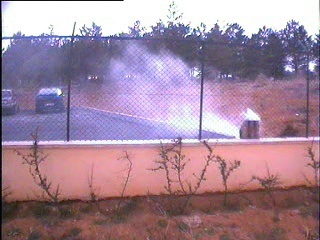smoke: (103, 42, 261, 141)
